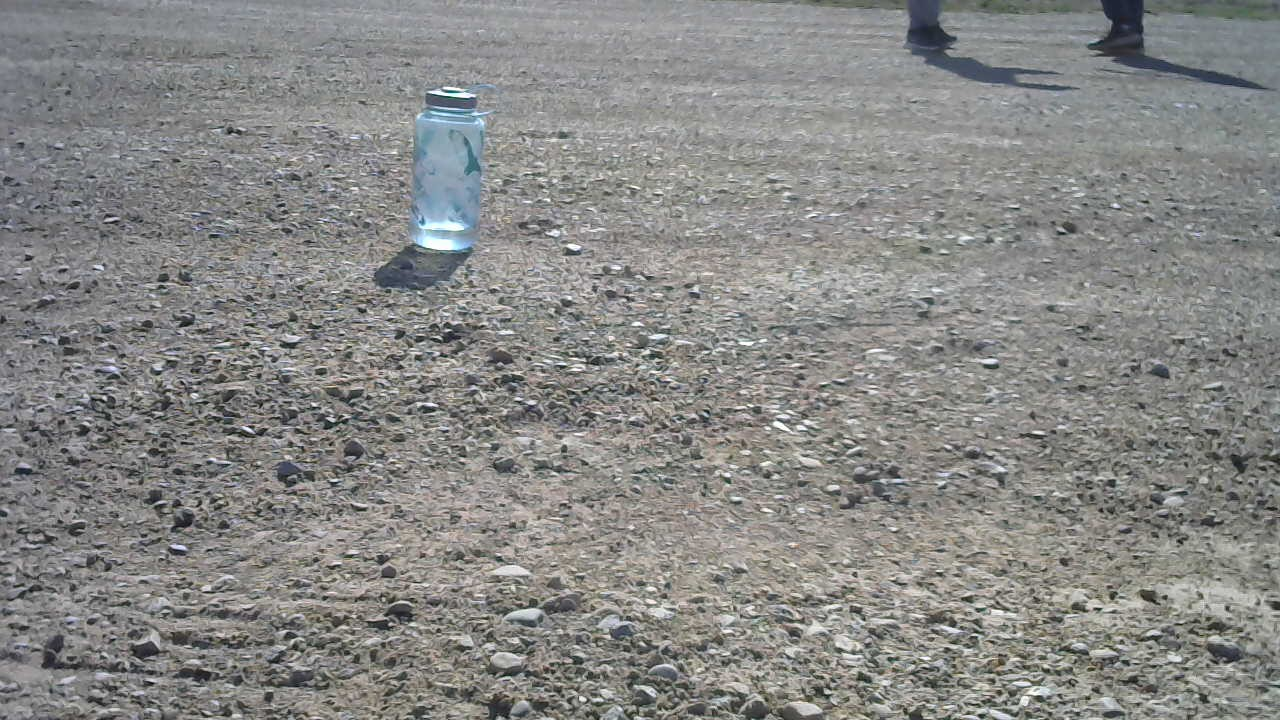bottle: (401, 73, 503, 254)
